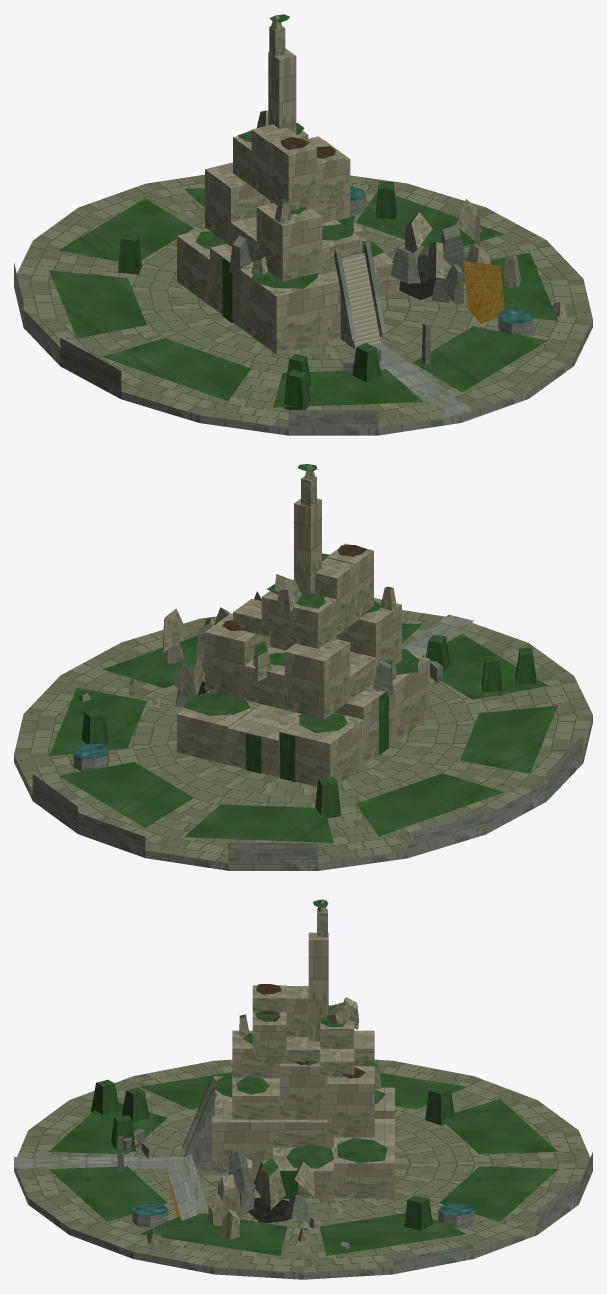
Rendered from pyramid_small_destroyed_lod1.glb.
3 views of the same model, one above another, from view 1: azimuth 30°, elevation 25°; view 2: azimuth 150°, elevation 25°; view 3: azimuth 270°, elevation 25° (orthographic). The views are drawn at different scales.
Visible parts, largest first — view 1: pyramid_small_destroyed_lod1; view 2: pyramid_small_destroyed_lod1; view 3: pyramid_small_destroyed_lod1.
Boxes of the visible parts, left/top/right/bottom form: pyramid_small_destroyed_lod1: left=14, top=14, right=592, bottom=435; pyramid_small_destroyed_lod1: left=14, top=464, right=592, bottom=870; pyramid_small_destroyed_lod1: left=14, top=899, right=592, bottom=1279.
Size of the model in its own units: 1.7 by 0.974 by 1.91.
Materials: 1 (1 with a texture image).
